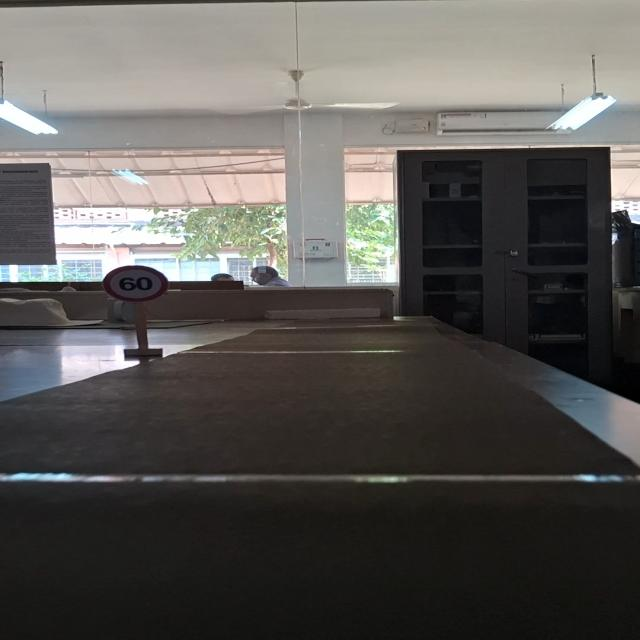Speed60: (100, 265, 170, 303)
